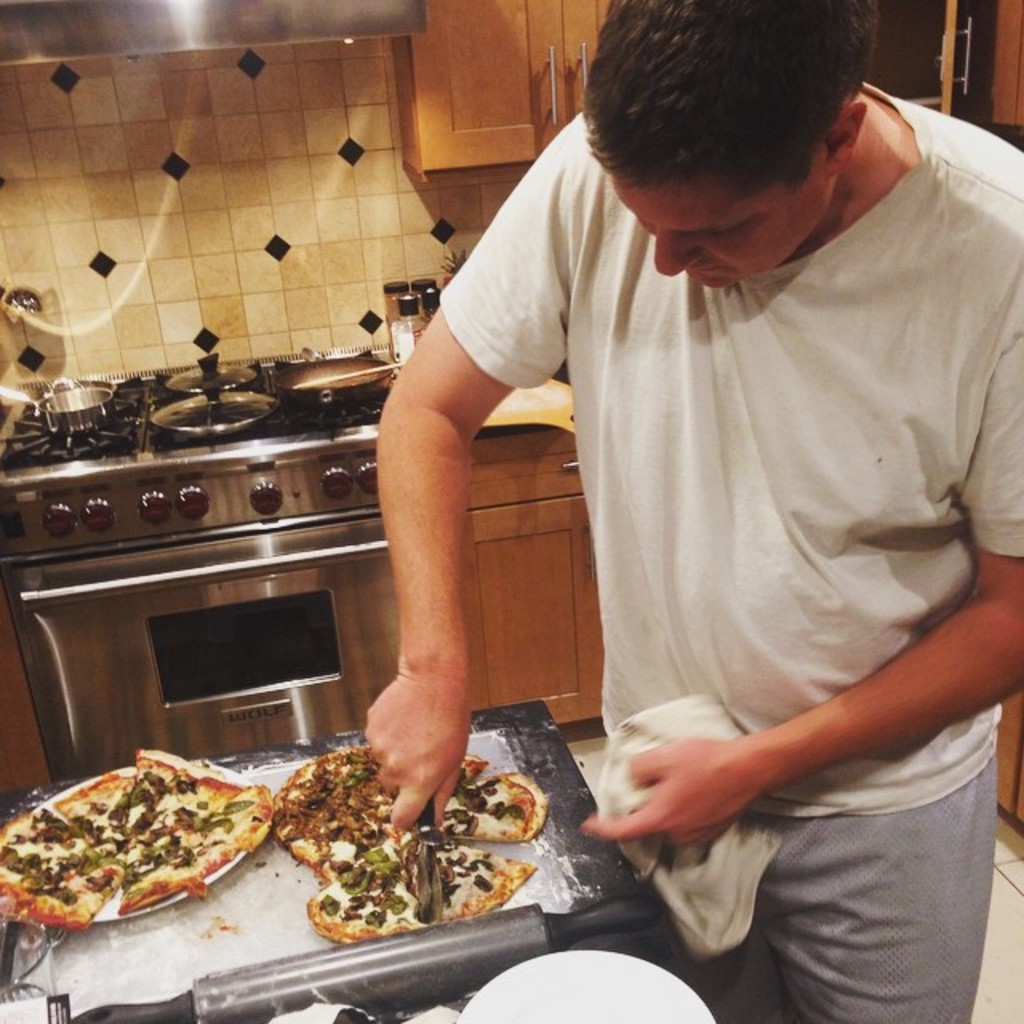Pizza: (14, 768, 262, 939), (256, 742, 540, 875), (289, 817, 534, 945)
